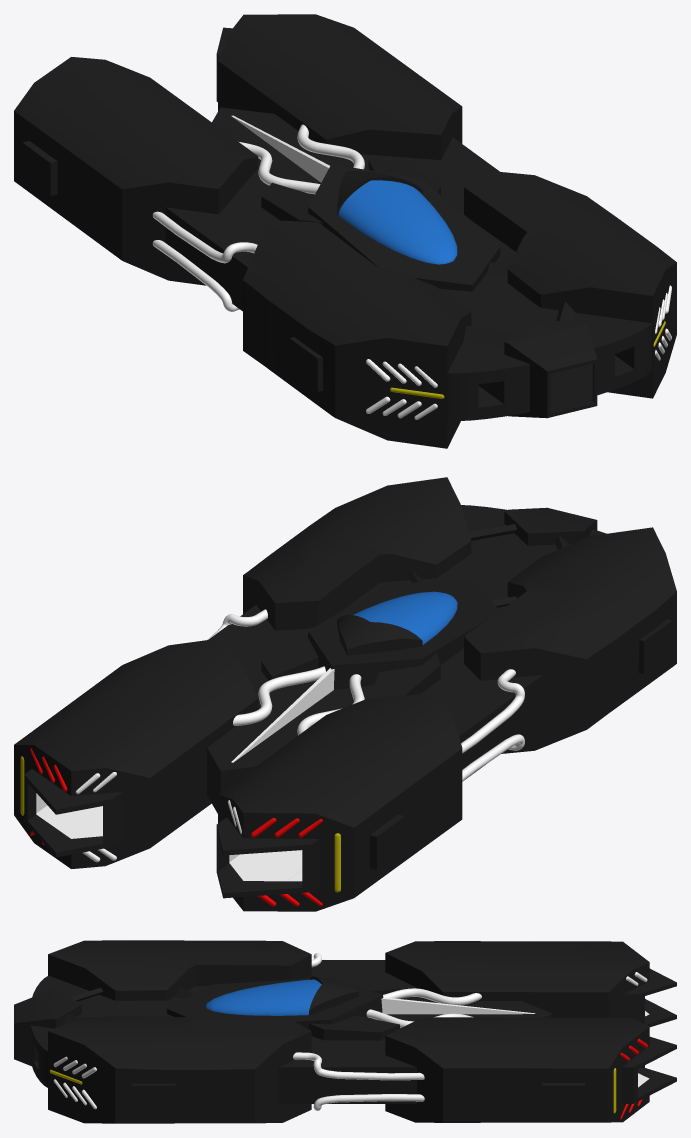
File: Hornet.obj
The picture shows the model from 3 angles, top to bottom: view 1: azimuth 30°, elevation 25°; view 2: azimuth 150°, elevation 25°; view 3: azimuth 270°, elevation 25°; orthographic projection. The views are drawn at different scales.
Parts seen in each view (by area): view 1: Body, Cube_4, Boole.2, Sweep, Sweep_1, Boole.3, Boole.3_1; view 2: Body, Cube_4, Cube_3, Boole.2, Sweep, Boole.3_1, Sweep_1, Boole.3, Capsule_3; view 3: Body, Cube_4, Boole.2, Sweep, Boole.3, Sweep_1, Boole.3_1.
Boxes of the visible parts, bbox=[...] form: Body: bbox=[14, 14, 676, 448]; Cube_4: bbox=[308, 164, 500, 291]; Boole.2: bbox=[338, 180, 457, 264]; Sweep: bbox=[152, 166, 500, 311]; Sweep_1: bbox=[238, 124, 364, 194]; Boole.3: bbox=[231, 115, 329, 182]; Boole.3_1: bbox=[337, 171, 422, 215]; Body: bbox=[14, 477, 676, 911]; Cube_4: bbox=[308, 580, 499, 689]; Cube_3: bbox=[49, 806, 302, 881]; Boole.2: bbox=[353, 591, 457, 644]; Sweep: bbox=[207, 609, 524, 781]; Boole.3_1: bbox=[337, 615, 422, 655]; Sweep_1: bbox=[233, 666, 364, 735]; Boole.3: bbox=[231, 668, 334, 762]; Capsule_3: bbox=[20, 756, 340, 892]; Body: bbox=[14, 940, 676, 1123]; Cube_4: bbox=[166, 977, 383, 1028]; Boole.2: bbox=[205, 979, 321, 1015]; Sweep: bbox=[293, 953, 424, 1110]; Boole.3: bbox=[381, 997, 535, 1014]; Sweep_1: bbox=[366, 988, 481, 1027]; Boole.3_1: bbox=[309, 976, 358, 1015].
Size of the model in its own units: 5.21 by 1.77 by 11.01.
